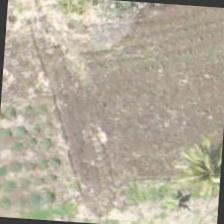Kelapa_Sawit: (159, 125, 222, 220)
